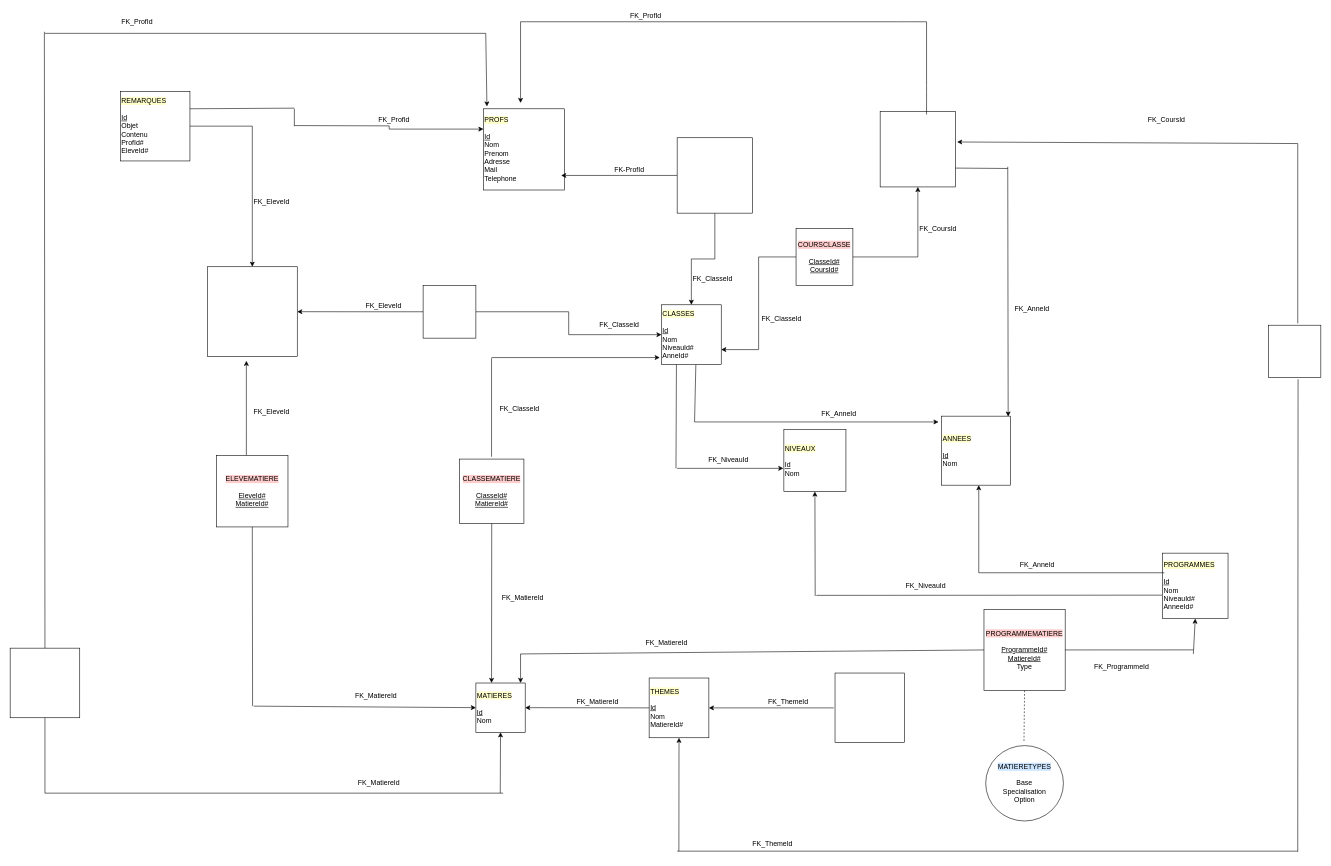
This 1331x866 diagram has some shape labels left out. Here are the shapes that lost their labels. From the top down, the box of each, then its label:
(880, 111, 956, 187): COURS Id Contenu Date ProfId# AnneId#
(677, 137, 753, 213): PROFCLASSE ClasseId# ProfId#
(207, 266, 297, 357): ELEVES Id Nom Prenom Adresse Mail Telephone Avatar DateNaissance
(423, 285, 476, 338): CLASSEELEVE ClasseId# EleveId#
(1268, 325, 1321, 377): COURSTHEME ThemeId# CoursId#
(10, 648, 80, 718): PROFMATIERE MatiereId# ProfId#
(834, 672, 905, 743): FICHIERS Id Titre Contenu ThemeId#
